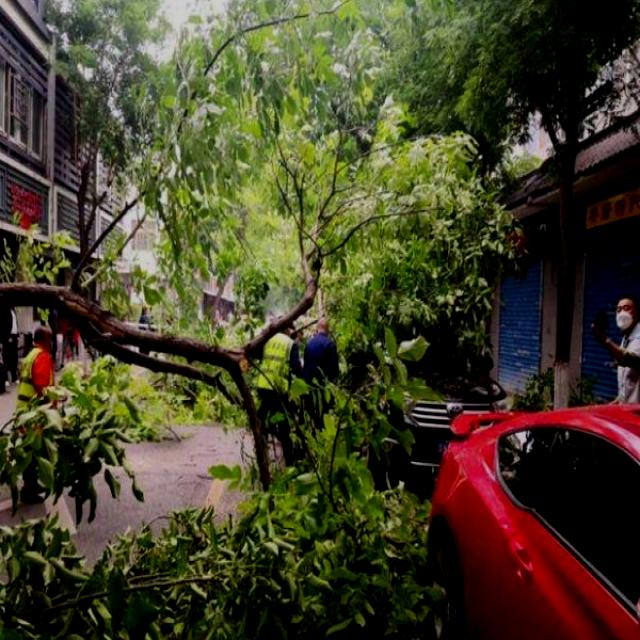fallen_object: (0, 116, 539, 502)
